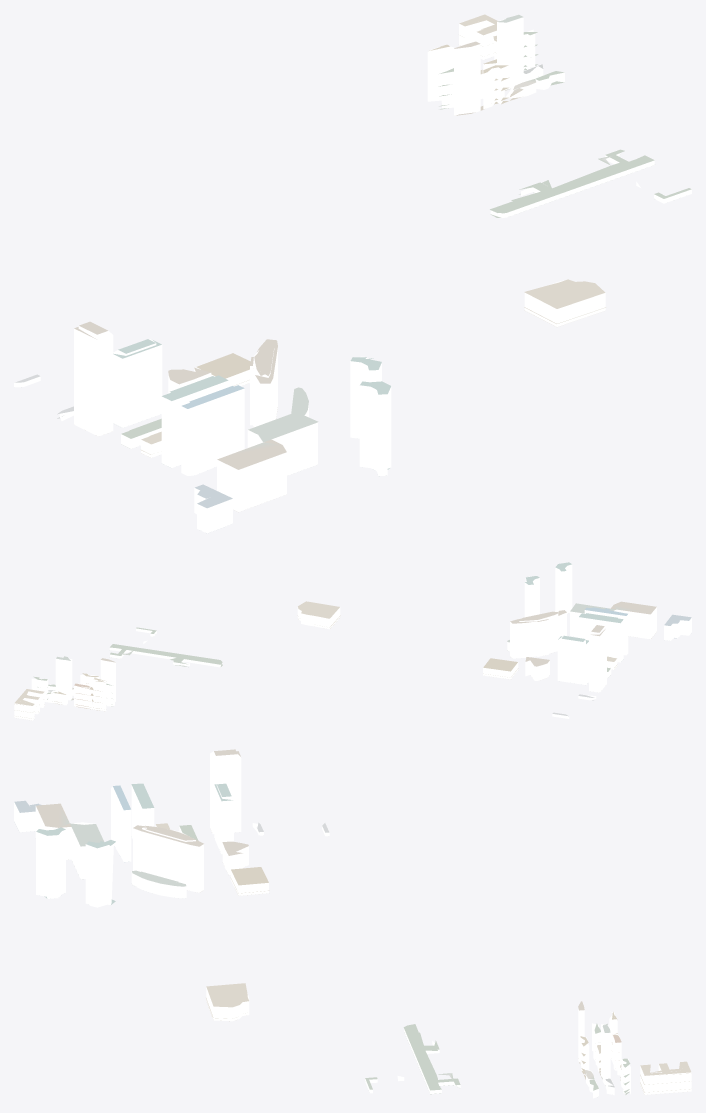
File: buildings-0_0-coarse.glb
The picture shows the model from 3 angles, top to bottom: view 1: azimuth 30°, elevation 25°; view 2: azimuth 150°, elevation 25°; view 3: azimuth 270°, elevation 25°; orthographic projection. The views are drawn at different scales.
Parts seen in each view (by area): view 1: block_0_0_office, block_0_0_roof, block_0_0_residential; view 2: block_0_0_office, block_0_0_roof, block_0_0_residential; view 3: block_0_0_office, block_0_0_roof, block_0_0_residential.
Boxes of the visible parts, <box> form: block_0_0_office: <box>74,17,523,533</box>; block_0_0_roof: <box>15,14,691,533</box>; block_0_0_residential: <box>14,20,691,457</box>; block_0_0_office: <box>55,564,691,701</box>; block_0_0_roof: <box>14,562,691,718</box>; block_0_0_residential: <box>14,607,617,720</box>; block_0_0_office: <box>14,751,610,1084</box>; block_0_0_roof: <box>14,749,690,1094</box>; block_0_0_residential: <box>155,823,691,1098</box>.
Bounding box in the file's own units: 621 × 83.75 × 641.
